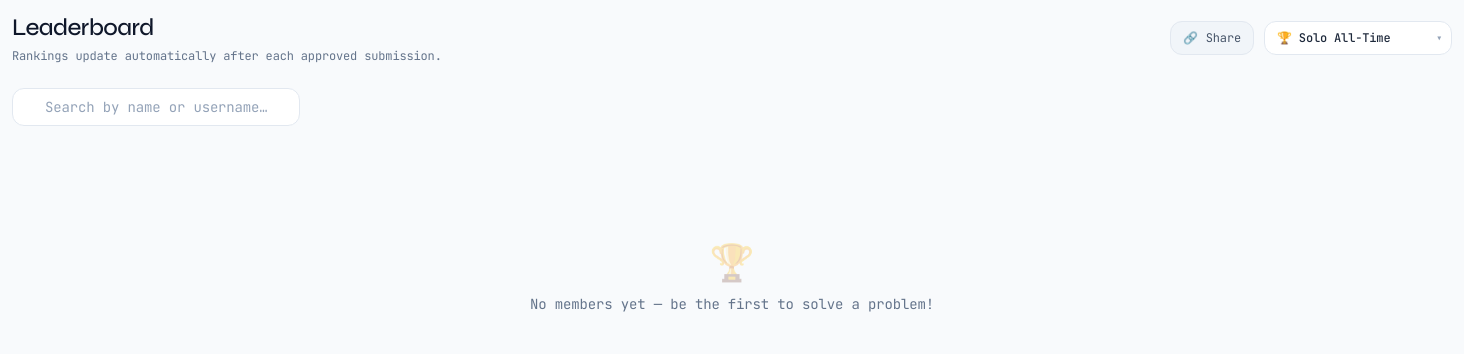
Feature 9: Leaderboard Clans & Mentors Tabs › renders mentor rankings when community discussions exist
Step 1. Select "🤝 Community Mentors" in the dropdown → (1358, 38), box [1264,21,1452,55]
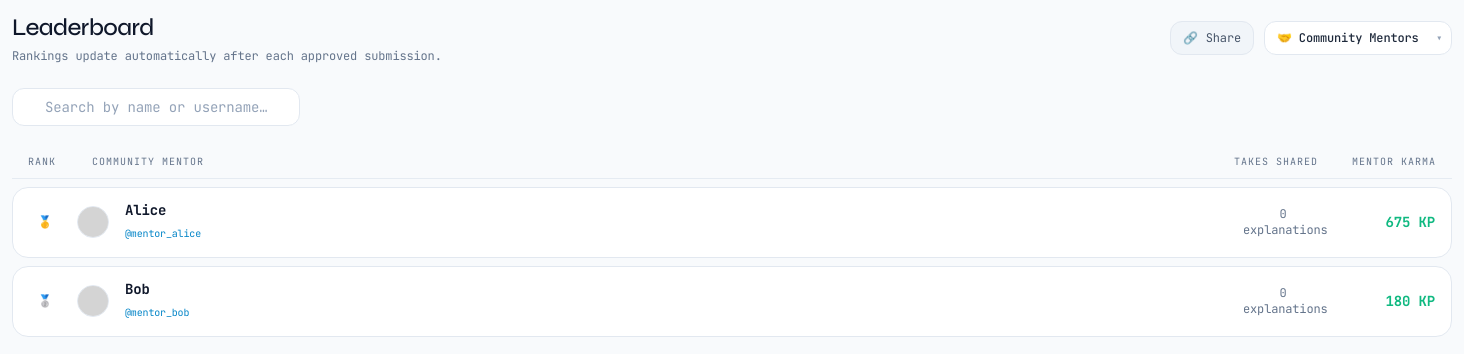
expect the text "Alice" is shown: met, box [125,201,166,219]
expect the text "Bob" is shown: met, box [125,280,150,298]
expect the text "675 KP" is shown: met, box [1386,214,1435,232]
